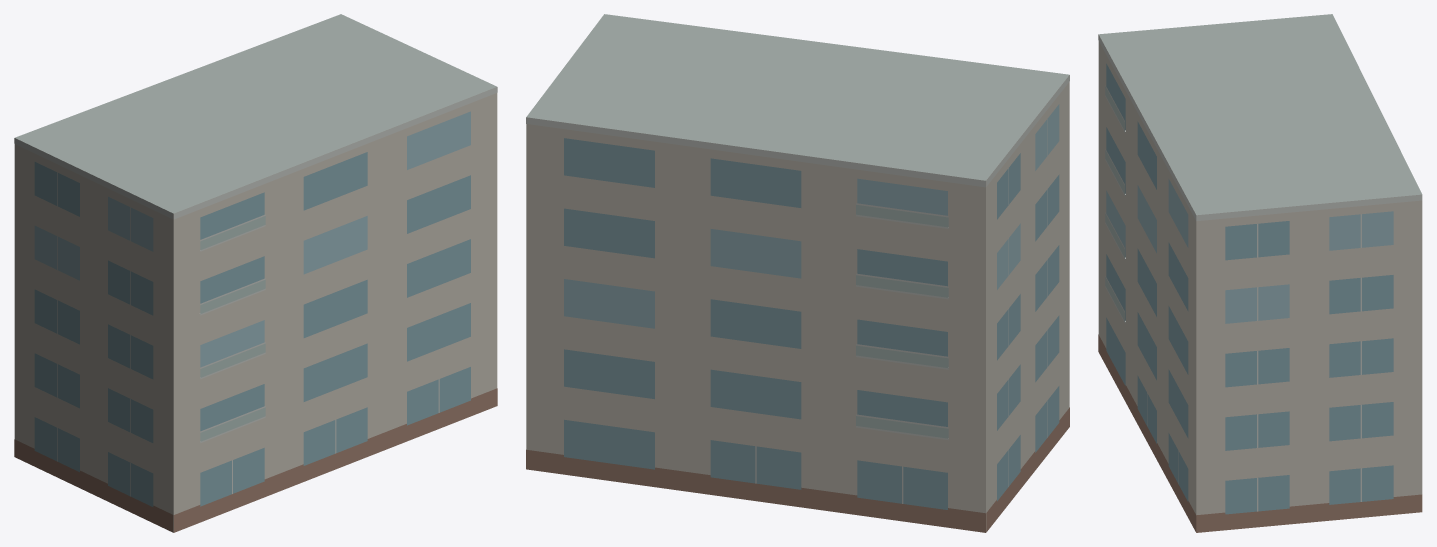
Rendered from survey-upis-32839489.glb.
3 views of the same model, side by side, from view 1: azimuth 30°, elevation 25°; view 2: azimuth 150°, elevation 25°; view 3: azimuth 270°, elevation 25° (orthographic). The views are drawn at different scales.
Visible parts, largest first — view 1: survey-upis-32839489.tmp; view 2: survey-upis-32839489.tmp; view 3: survey-upis-32839489.tmp.
Part boxes in pixels (box(x1,y1,x2,y2)): survey-upis-32839489.tmp: box(14, 14, 497, 532); survey-upis-32839489.tmp: box(526, 14, 1069, 532); survey-upis-32839489.tmp: box(1098, 14, 1422, 532).
Size of the model in its own units: 17.68 by 13 by 12.03.
